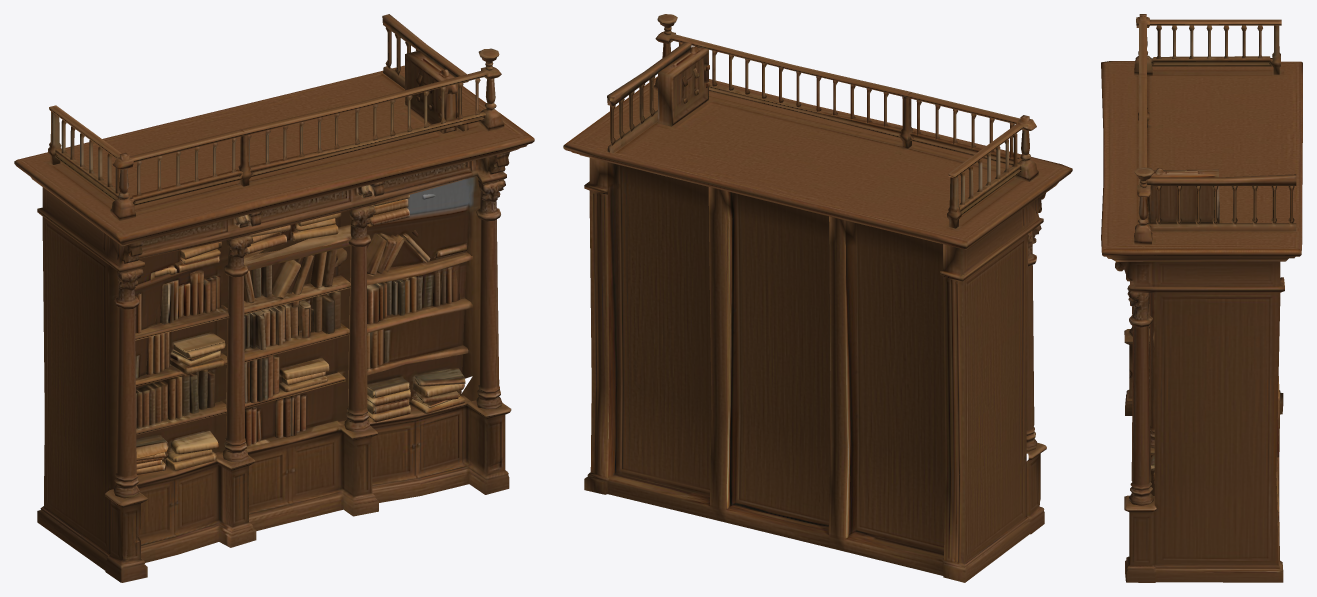
Rendered from archive-wall.glb.
The picture shows the model from 3 angles, left to right: view 1: azimuth 30°, elevation 25°; view 2: azimuth 150°, elevation 25°; view 3: azimuth 270°, elevation 25°; orthographic projection. The views are drawn at different scales.
Parts seen in each view (by area): view 1: tripo_030c336f_7d55_44f8_855d_4c6dbdbee959; view 2: tripo_030c336f_7d55_44f8_855d_4c6dbdbee959; view 3: tripo_030c336f_7d55_44f8_855d_4c6dbdbee959.
Part boxes in pixels (<box>): tripo_030c336f_7d55_44f8_855d_4c6dbdbee959: <box>14,14,534,582</box>; tripo_030c336f_7d55_44f8_855d_4c6dbdbee959: <box>563,14,1072,582</box>; tripo_030c336f_7d55_44f8_855d_4c6dbdbee959: <box>1101,14,1302,582</box>.
Bounding box in the file's own units: 0.9995 × 0.9937 × 0.4478.
Materials: 1 (1 with a texture image).
